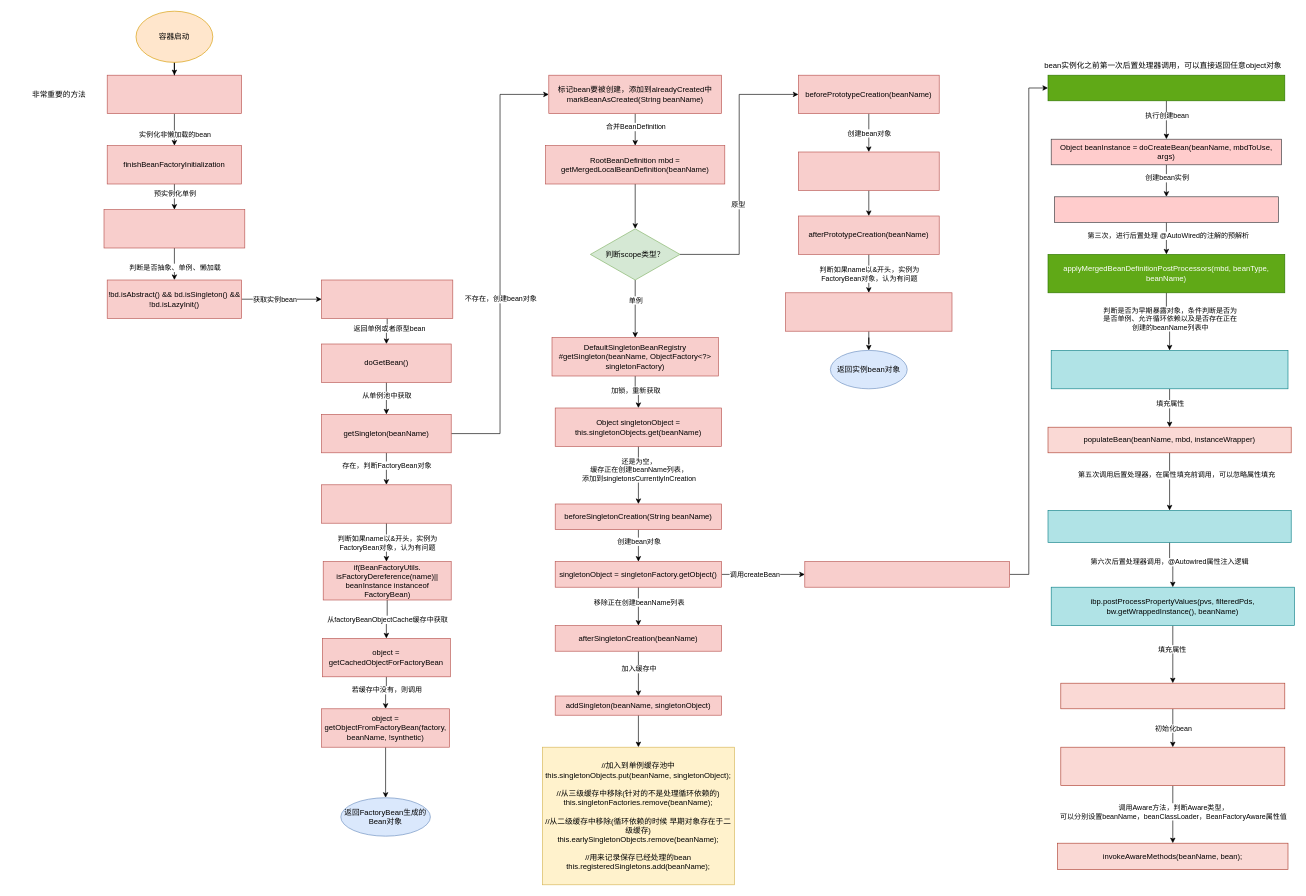
Image size: 1306x896. Some labels were removed from this diagram. The shapes that lost their labels are listed below. From the top down, each one's centre as x and y in pixels, then its label:
pixel 174 94: AbstractApplicationContext #refresh()
pixel 1166 88: Object bean = resolveBeforeInstantiation(beanName, mbdToUse)
pixel 868 170: prototypeInstance = createBean(beanName, mbd, args)
pixel 174 228: DefaultListableBeanFactory #preInstantiateSingletons
pixel 1166 209: instanceWrapper = createBeanInstance(beanName, mbd, args)
pixel 387 298: AbstractBeanFactory #getBean()
pixel 868 311: bean = getObjectForBeanInstance(prototypeInstance, name, beanName, mbd)
pixel 1169 369: addSingletonFactory(beanName, () -> getEarlyBeanReference(beanName, mbd, bean));
pixel 386 503: bean = getObjectForBeanInstance( sharedInstance, name, beanName, null)
pixel 1169 526: ibp.postProcessAfterInstantiation(bw.getWrappedInstance(), beanName)
pixel 907 574: AbstractAutowireCapableBeanFactory#createBean()
pixel 1172 696: applyPropertyValues(beanName, mbd, bw, pvs);
pixel 1172 766: exposedObject = initializeBean(beanName, exposedObject, mbd)
